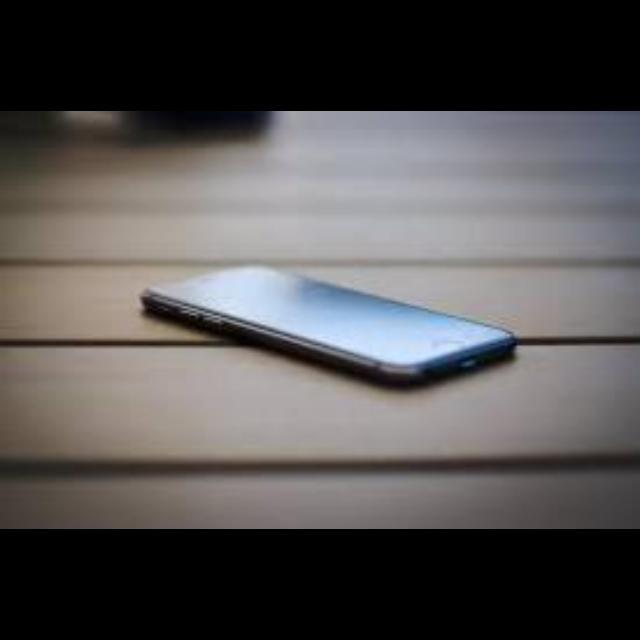Phone: (136, 261, 516, 393)
